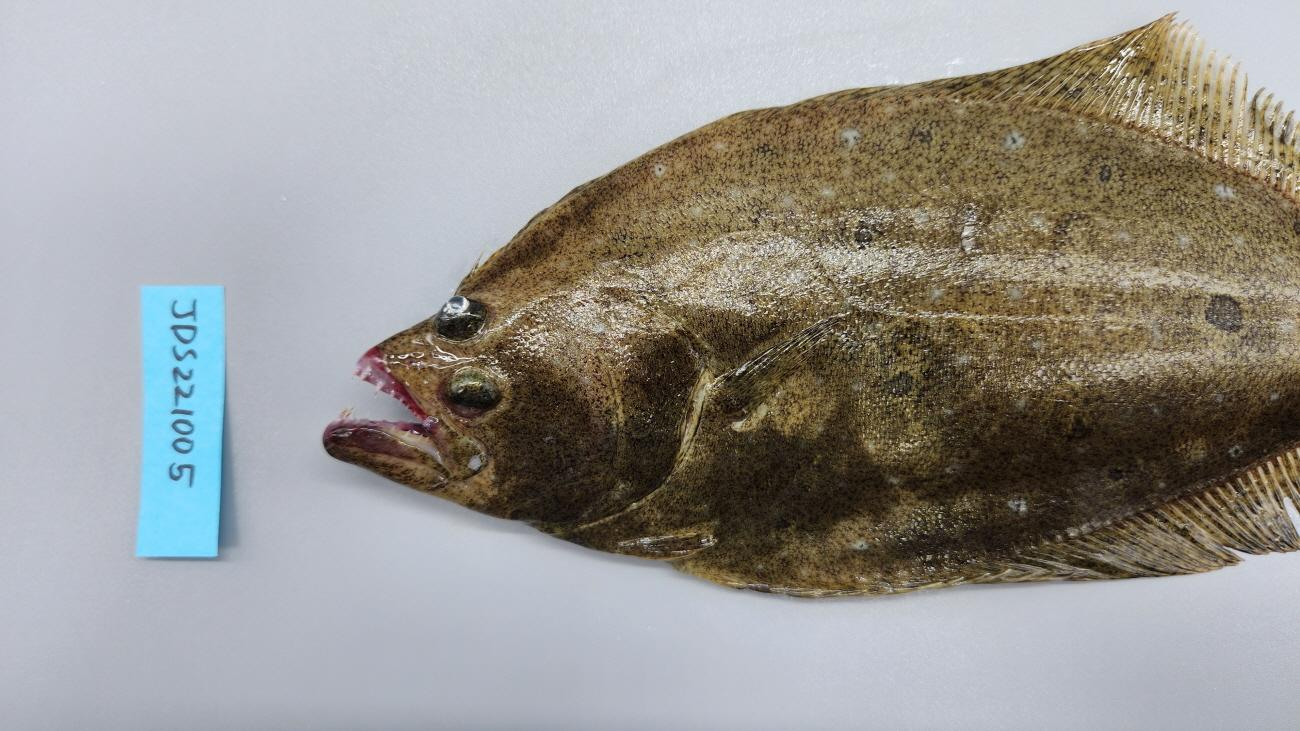VIMOU: (327, 346, 487, 479)
